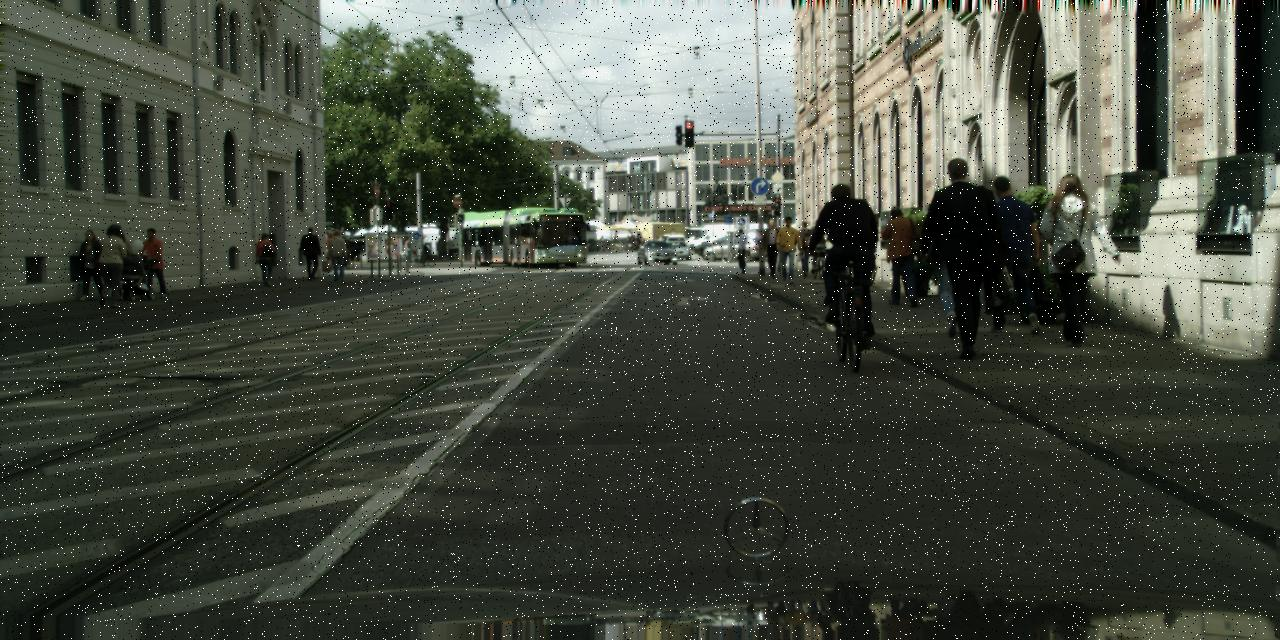ped: (921, 156, 1003, 357), (1036, 173, 1107, 346), (814, 182, 878, 336), (977, 175, 1040, 331), (924, 200, 979, 332), (879, 206, 920, 305), (95, 224, 128, 304), (106, 228, 136, 298), (139, 228, 167, 296), (78, 230, 106, 298), (775, 216, 801, 282), (793, 220, 816, 276), (760, 218, 782, 274), (254, 232, 276, 286), (807, 219, 828, 272), (328, 229, 349, 281), (300, 227, 321, 279), (733, 228, 751, 273), (323, 231, 335, 263), (402, 236, 414, 266), (337, 236, 347, 262), (416, 240, 426, 261), (446, 238, 454, 260), (436, 238, 444, 258)
